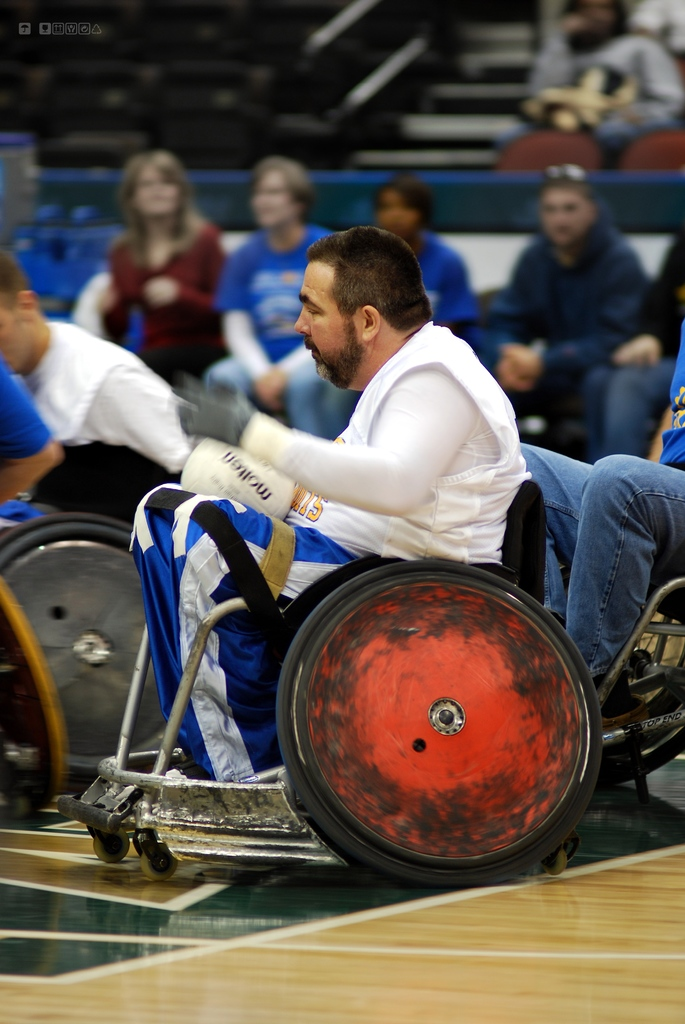Person: (0, 0, 685, 781)
